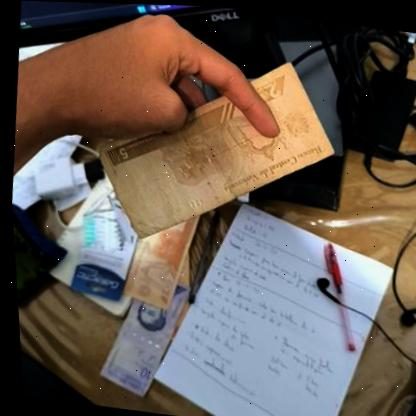five-back-vef: (57, 32, 347, 264)
